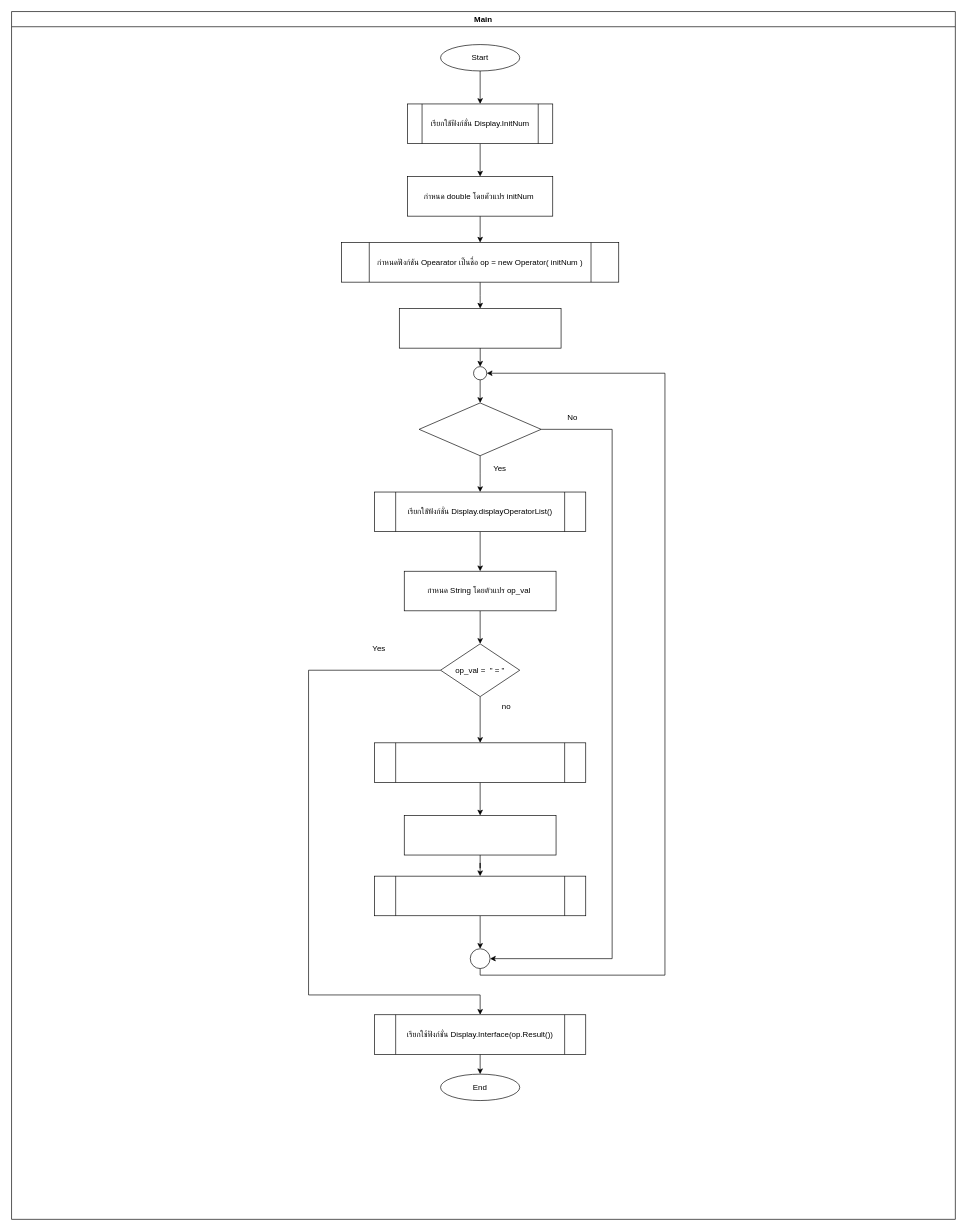
The diagram is 967 pixels wide and 1231 high, and some of its shapes have lost their labels. The shapes that lost their labels are listed below. From the top down, each one's centre as x and y in pixels, then its label:
(480,328): กำหนดค่า boolean check ให้มีสถานะเป็น true
(479,429): check มีสถานะเป็น true ไหม
(480,762): เรียกใช้ฟังก์ชั่น Display.DisplayNextNum()
(480,835): กำหนด double โดยตัวแปร nextNum
(480,895): เรียกใช้ฟังก์ชั่น op.calculator(op_val, nextNum)
